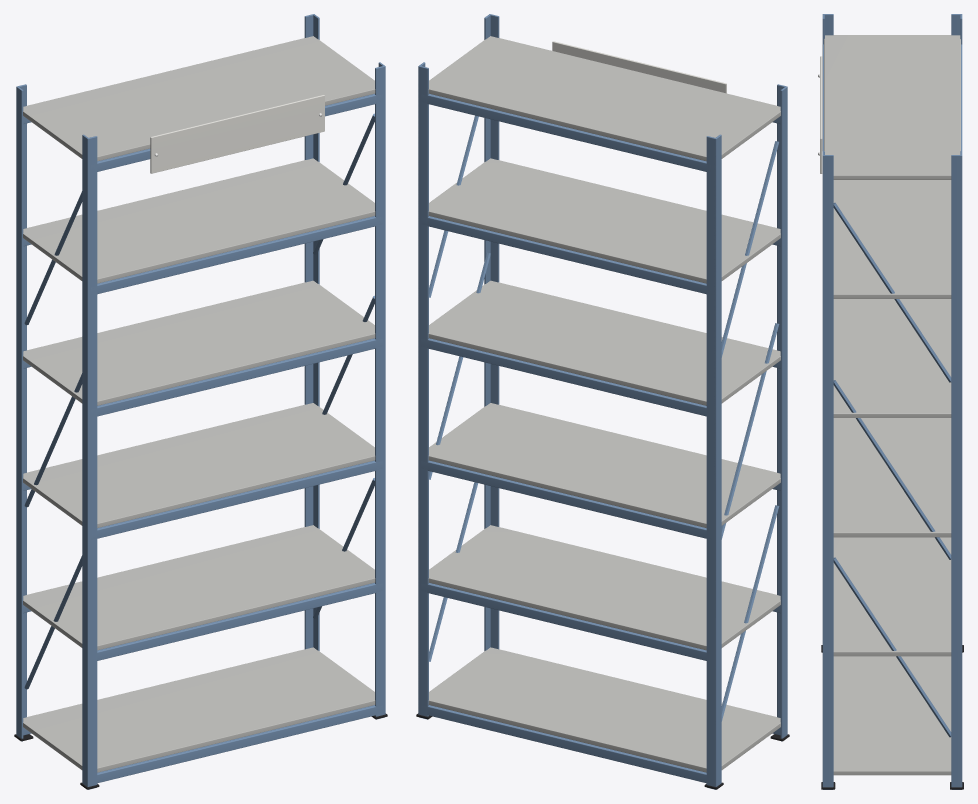
The model's file is industrial.workshop.shelf_tall.glb.
3 views of the same model, side by side, from view 1: azimuth 30°, elevation 25°; view 2: azimuth 150°, elevation 25°; view 3: azimuth 270°, elevation 25° (orthographic). The views are drawn at different scales.
Visible parts, largest first — view 1: main__paint_ccc, main__paint_79b, main__paint_eee; view 2: main__paint_ccc, main__paint_79b, main__paint_eee; view 3: main__paint_ccc, main__paint_79b, main__paint_eee.
Part boxes in pixels (left/top/right/bottom): main__paint_ccc: left=23, top=36, right=375, bottom=772; main__paint_79b: left=16, top=14, right=385, bottom=789; main__paint_eee: left=150, top=94, right=324, bottom=173; main__paint_ccc: left=428, top=36, right=780, bottom=772; main__paint_79b: left=418, top=14, right=787, bottom=789; main__paint_eee: left=552, top=41, right=726, bottom=93; main__paint_ccc: left=824, top=35, right=960, bottom=775; main__paint_79b: left=822, top=14, right=962, bottom=789; main__paint_eee: left=820, top=56, right=822, bottom=173.
Size of the model in its own units: 1.21 by 2.5 by 0.521.
